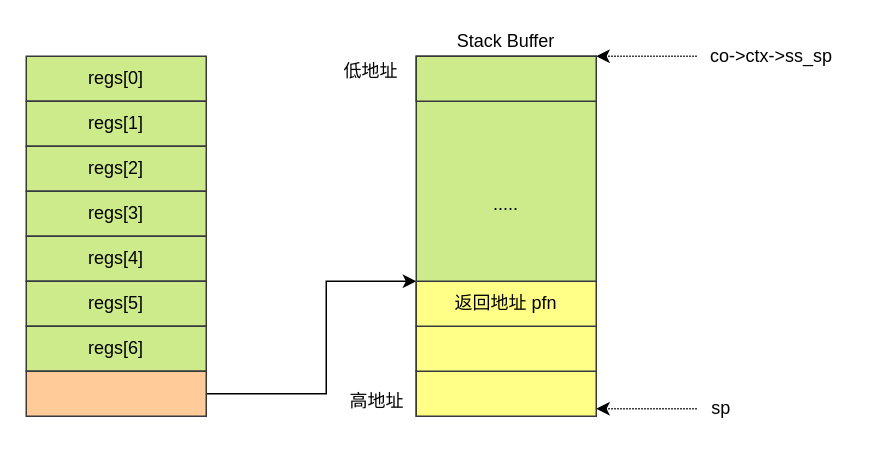
The diagram is 873 pixels wide and 456 high, and some of its shapes have lost their labels. The shapes that lost their labels are listed below. From the top down, each one's centre as x and y in pixels, then its label:
At (x=505, y=78): "NULL".
At (x=505, y=348): "第一个参数 co".
At (x=115, y=393): "regs[7] %ebp".
At (x=505, y=393): "第二个参数 0".
